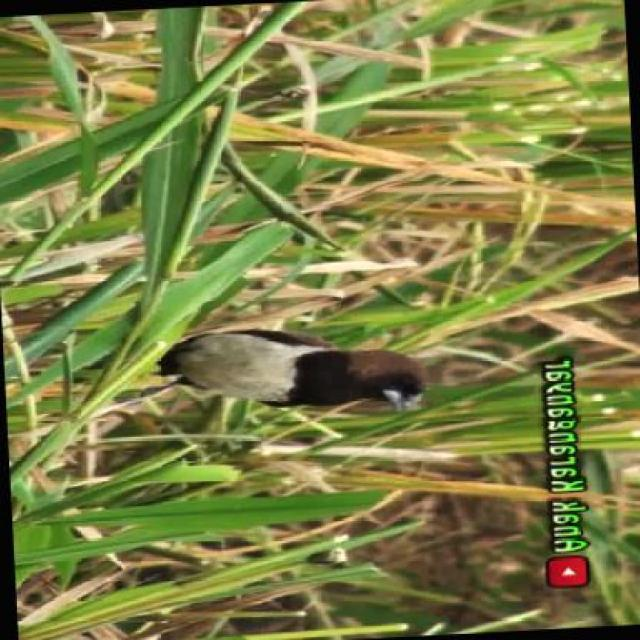Bird: (135, 303, 456, 427)
